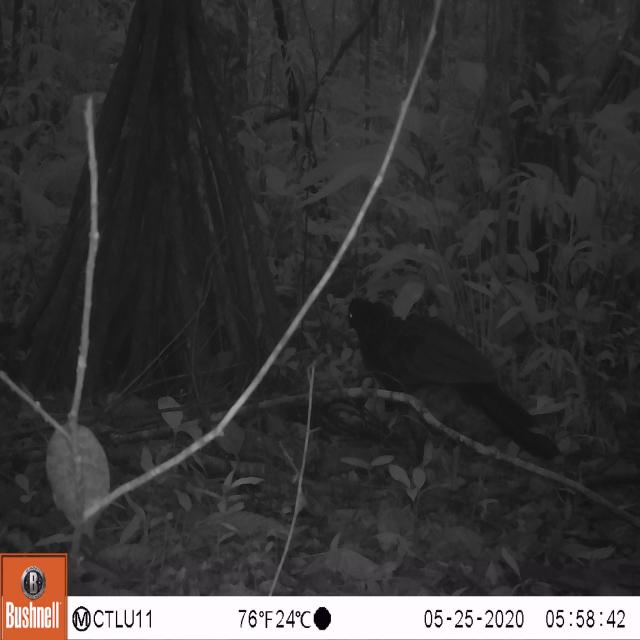Salvins Curassow: (335, 284, 565, 468)
